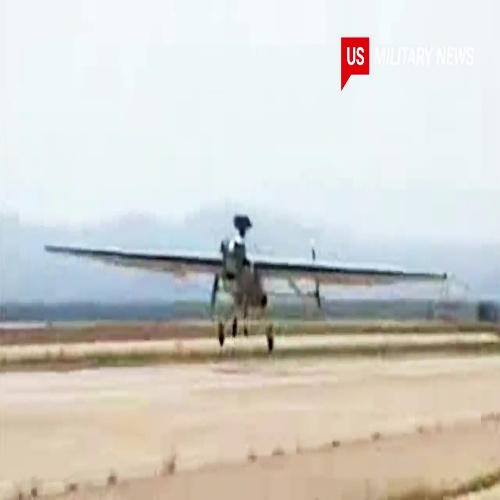uav: (41, 214, 451, 355)
